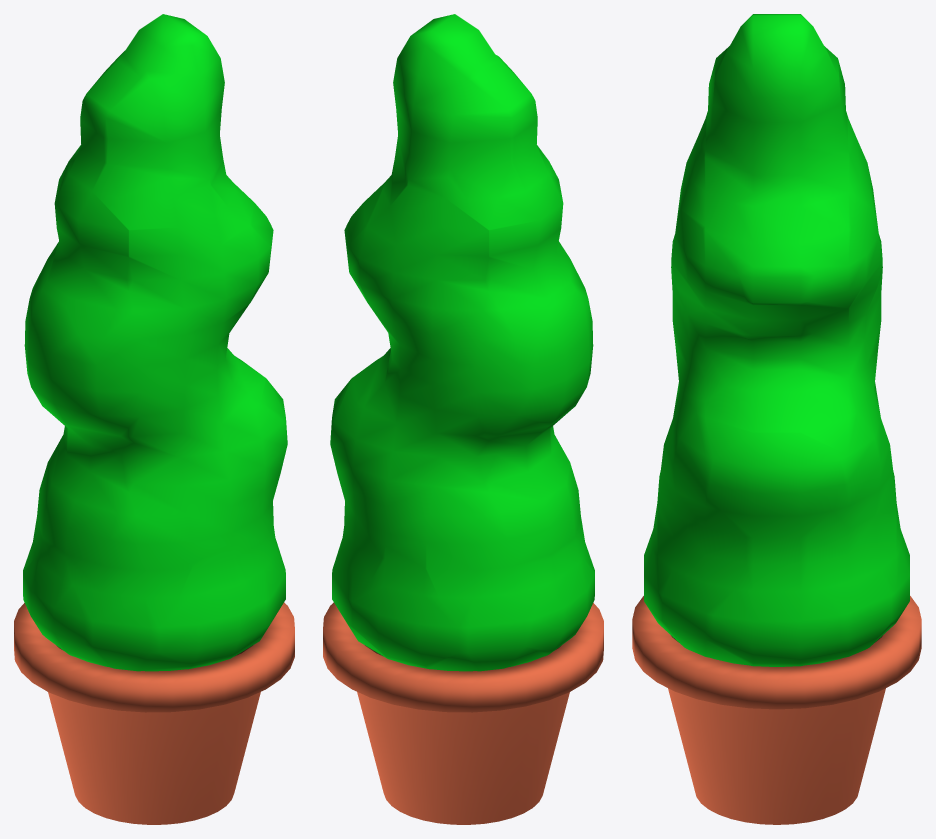
3 views of the same model, side by side, from view 1: azimuth 30°, elevation 25°; view 2: azimuth 150°, elevation 25°; view 3: azimuth 270°, elevation 25° (orthographic). The views are drawn at different scales.
Visible parts, largest first — view 1: Plant, Pot.001; view 2: Plant, Pot.001; view 3: Plant, Pot.001.
Boxes of the visible parts, x1,y1,x2,y2 form: Plant: (23,14,287,671); Pot.001: (14,602,294,824); Plant: (330,14,594,671); Pot.001: (323,602,603,824); Plant: (644,14,909,666); Pot.001: (632,596,921,824).
Size of the model in its own units: 2.43 by 7.26 by 2.43.
